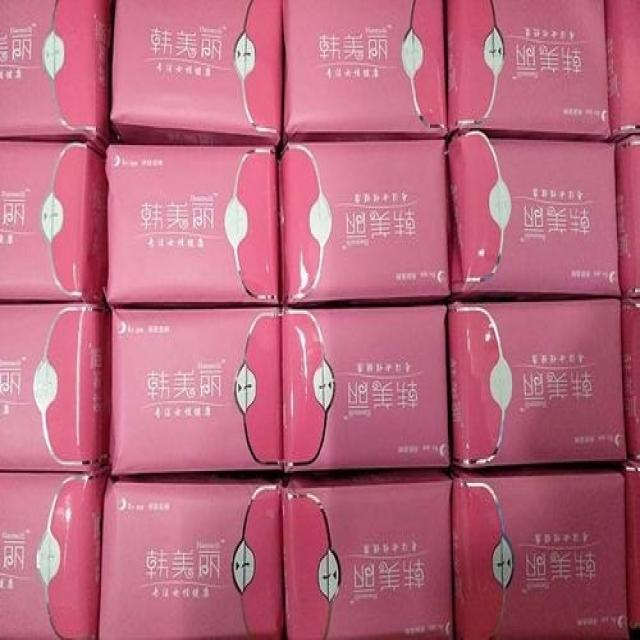box: (98, 471, 285, 635), (109, 302, 287, 474), (455, 460, 627, 638), (448, 296, 623, 468), (449, 130, 620, 302), (280, 302, 453, 471), (280, 139, 452, 308), (285, 466, 455, 635), (106, 142, 280, 305), (108, 3, 282, 147), (279, 3, 446, 144), (444, 1, 611, 138), (0, 302, 109, 471), (1, 472, 110, 638), (0, 137, 107, 304), (2, 4, 116, 156), (607, 2, 639, 141), (613, 130, 639, 300), (622, 297, 639, 461), (624, 461, 639, 630)
